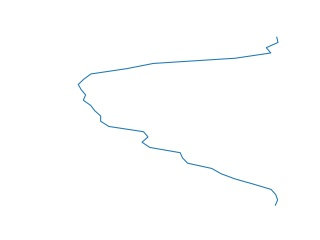mouthBar: (73, 38, 286, 205)
